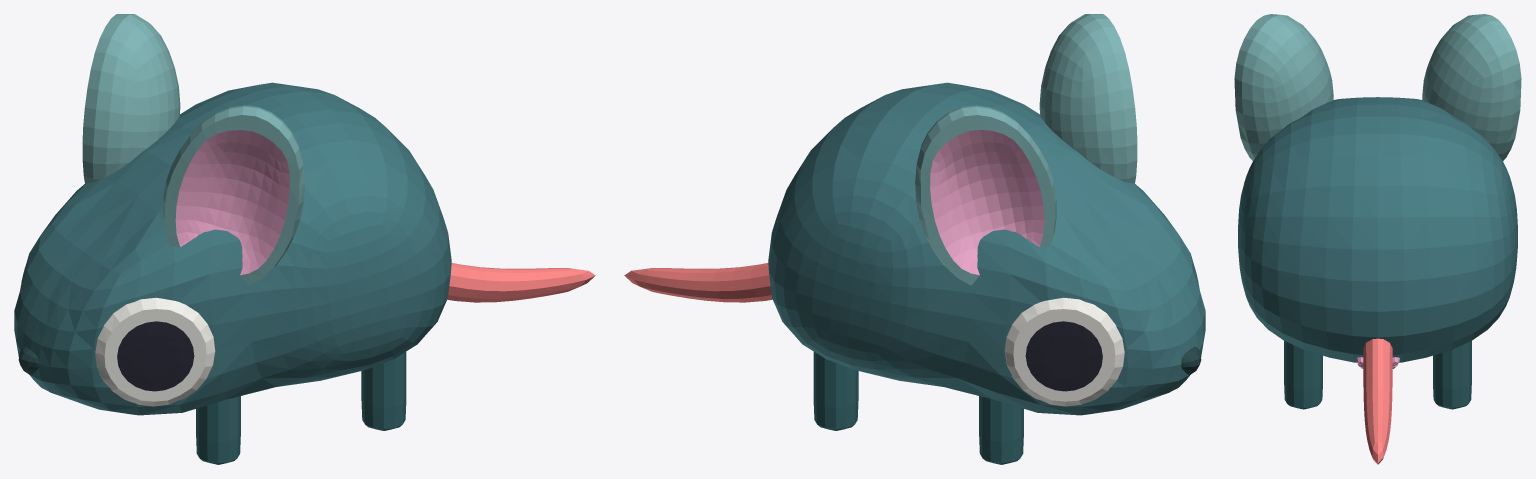
Rendered from Mouse_LOD0.fbx.
3 views of the same model, side by side, from view 1: azimuth 30°, elevation 25°; view 2: azimuth 150°, elevation 25°; view 3: azimuth 270°, elevation 25° (orthographic). The views are drawn at different scales.
Parts seen in each view (by area): view 1: Mesh; view 2: Mesh; view 3: Mesh.
Boxes of the visible parts, x1=… form: Mesh: x1=14, y1=14, x2=595, y2=464; Mesh: x1=624, y1=14, x2=1205, y2=464; Mesh: x1=1234, y1=14, x2=1521, y2=464.
Size of the model in its own units: 179 by 109 by 88.97.
1 material, 1 textured.
